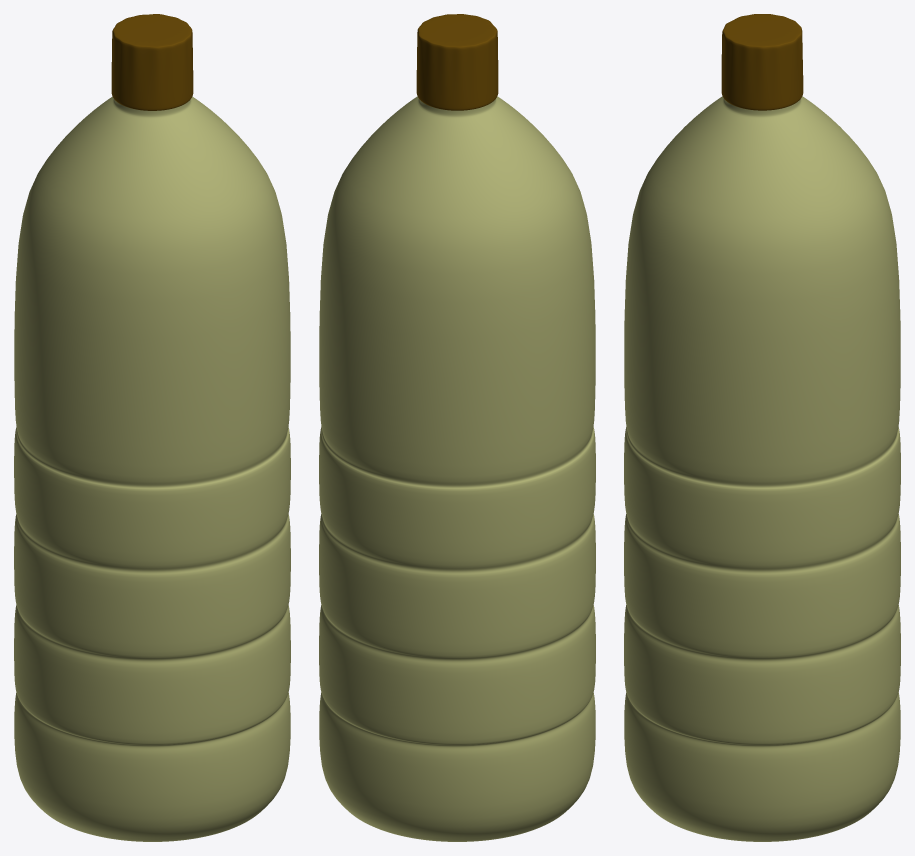
The model's file is gameready_oil_bottle_model.glb.
3 renders of one model, left to right at view 1: azimuth 30°, elevation 25°; view 2: azimuth 150°, elevation 25°; view 3: azimuth 270°, elevation 25°, orthographic.
Parts seen in each view (by area): view 1: Cylinder, Cylinder.001; view 2: Cylinder, Cylinder.001; view 3: Cylinder, Cylinder.001.
Boxes of the visible parts, x1,y1,x2,y2 form: Cylinder: (14,96,290,841); Cylinder.001: (111,14,193,110); Cylinder: (319,96,595,841); Cylinder.001: (416,14,498,110); Cylinder: (624,96,900,841); Cylinder.001: (721,14,803,110).
Bounding box in the file's own units: 1.99 × 6.04 × 1.99.
